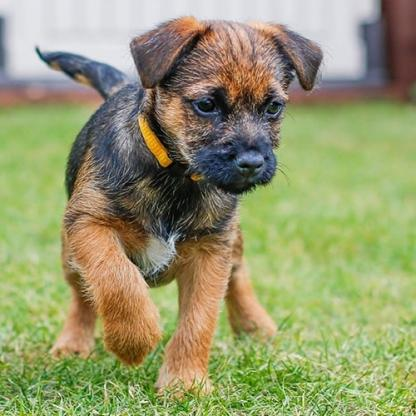Border Terrier: (32, 13, 327, 398)
